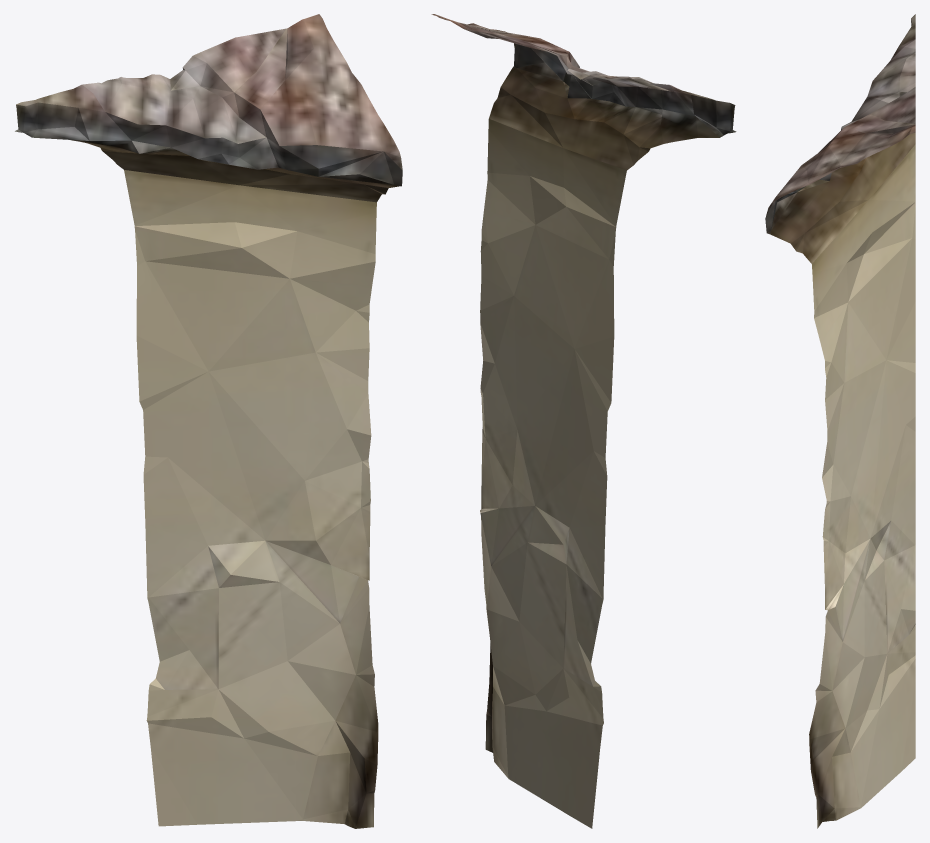
The picture shows the model from 3 angles, left to right: view 1: azimuth 30°, elevation 25°; view 2: azimuth 150°, elevation 25°; view 3: azimuth 270°, elevation 25°; orthographic projection. The views are drawn at different scales.
Bounding box in the file's own units: 1.9 × 4.6 × 0.8995.
Materials: 1 (1 with a texture image).
